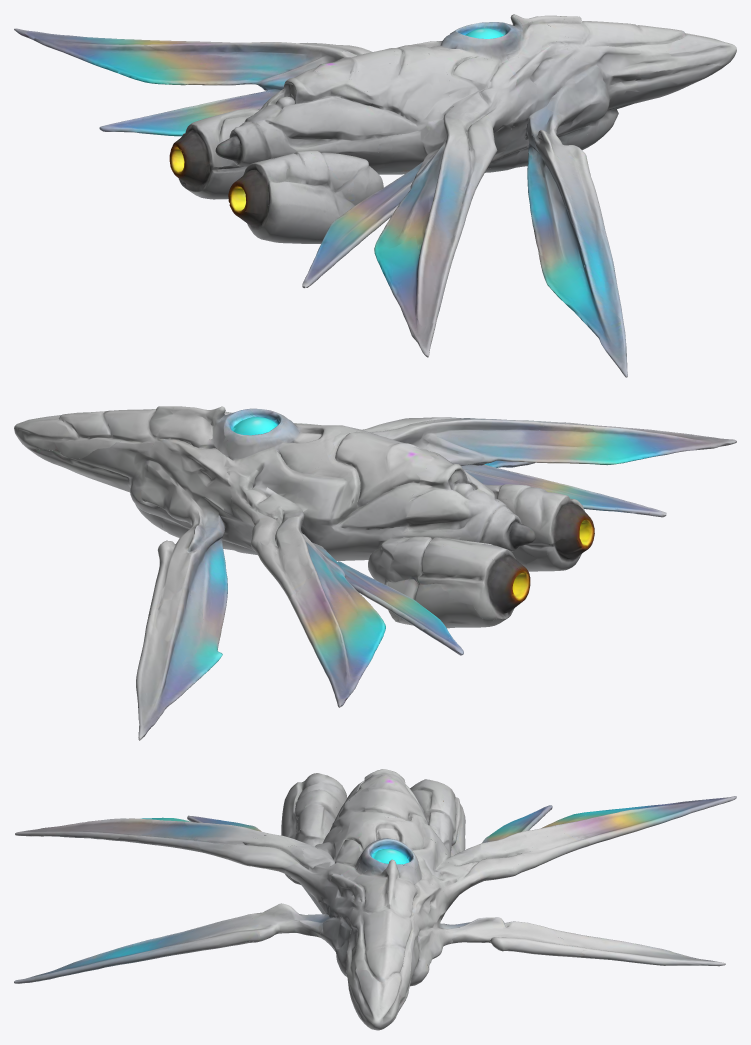
File: seraph_prime.glb
The picture shows the model from 3 angles, top to bottom: view 1: azimuth 30°, elevation 25°; view 2: azimuth 150°, elevation 25°; view 3: azimuth 270°, elevation 25°; orthographic projection. The views are drawn at different scales.
Visible parts, largest first — view 1: tripo_node_881ab30c-c931-4d9f-85cf-71ac19455813; view 2: tripo_node_881ab30c-c931-4d9f-85cf-71ac19455813; view 3: tripo_node_881ab30c-c931-4d9f-85cf-71ac19455813.
Boxes of the visible parts, x1,y1,x2,y2 form: tripo_node_881ab30c-c931-4d9f-85cf-71ac19455813: [14, 14, 736, 377]; tripo_node_881ab30c-c931-4d9f-85cf-71ac19455813: [14, 406, 736, 740]; tripo_node_881ab30c-c931-4d9f-85cf-71ac19455813: [14, 769, 736, 1030].
Size of the model in its own units: 1.54 by 0.5075 by 2.
1 material, 1 textured.
